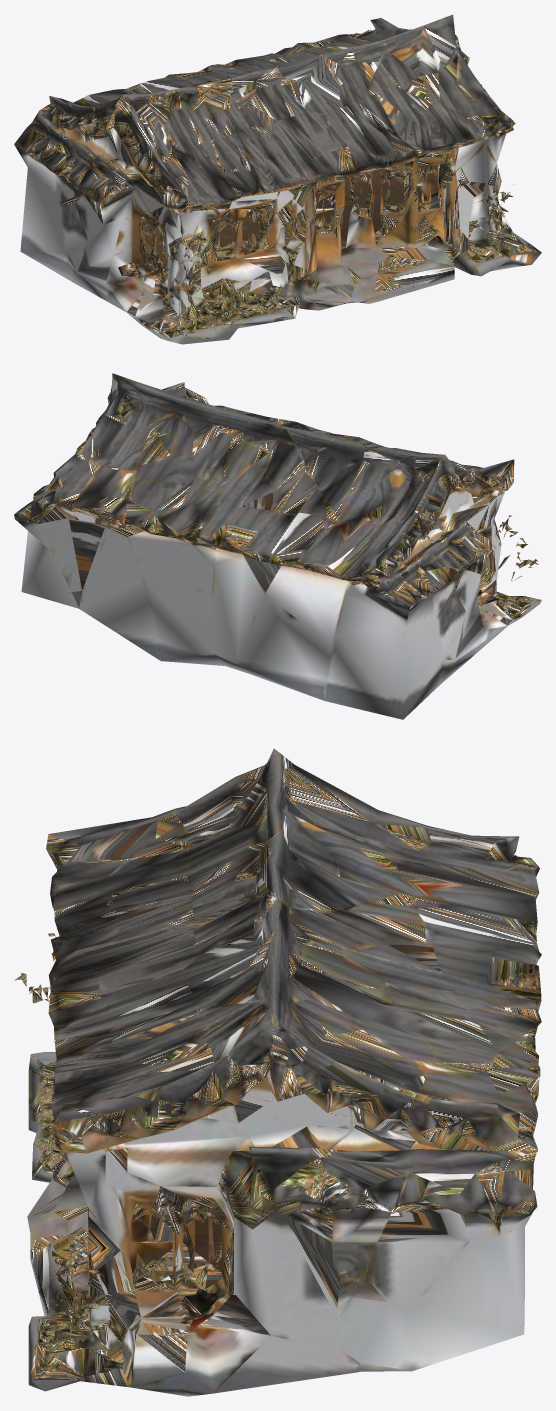
Rendered from lib_courtyard.lod1.glb.
3 renders of one model, top to bottom at view 1: azimuth 30°, elevation 25°; view 2: azimuth 150°, elevation 25°; view 3: azimuth 270°, elevation 25°, orthographic. The views are drawn at different scales.
Bounding box in the file's own units: 1.87 × 0.9244 × 1.25.
1 material, 1 textured.
